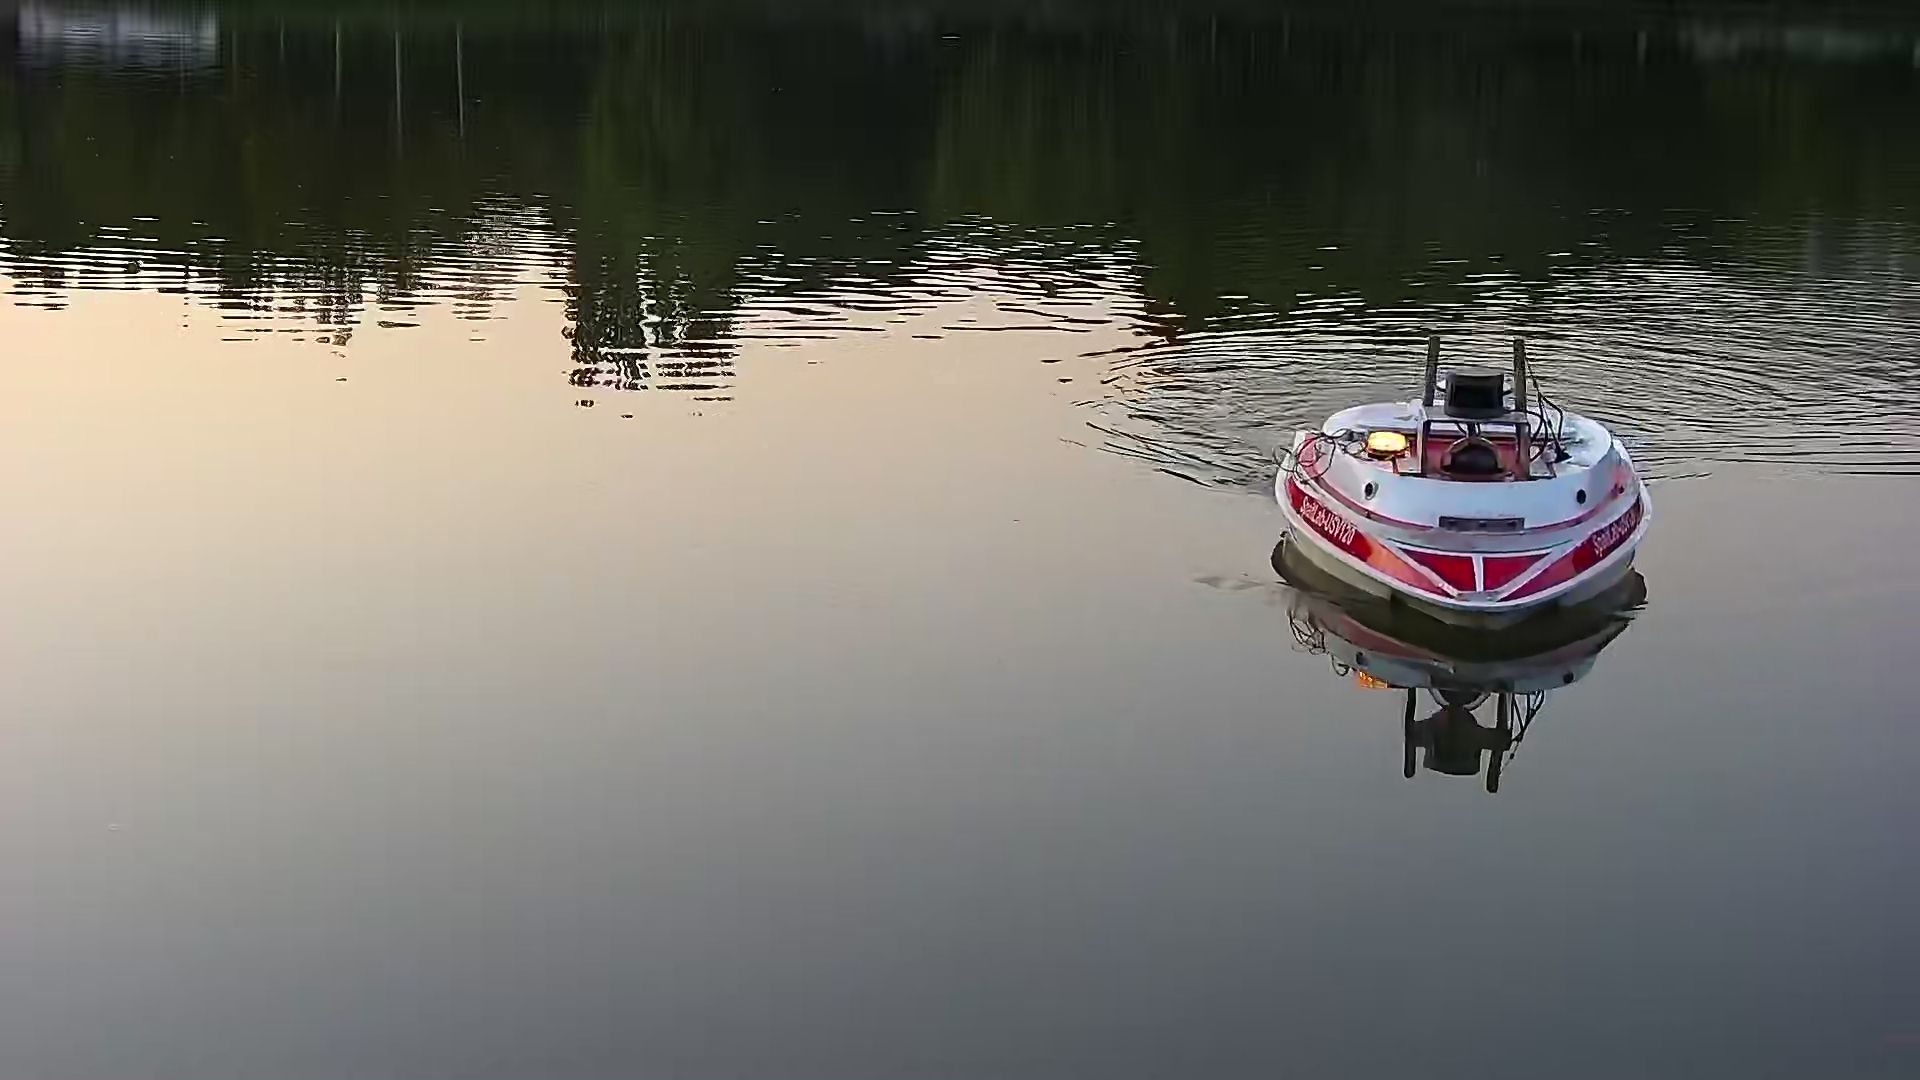boat: (1278, 342, 1654, 644)
